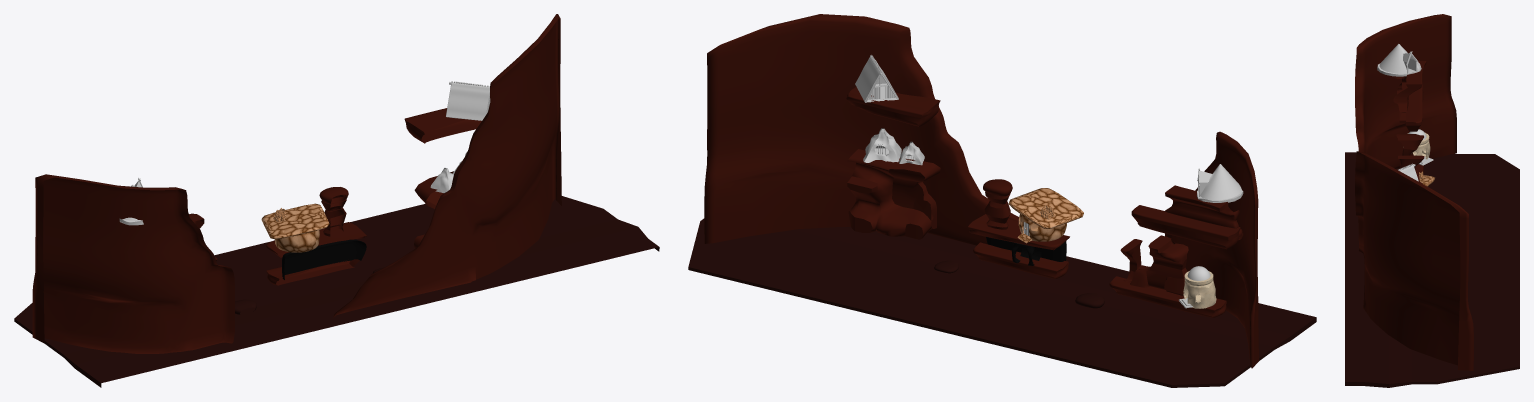
The model's file is Stage.FBX.
3 views of the same model, side by side, from view 1: azimuth 30°, elevation 25°; view 2: azimuth 150°, elevation 25°; view 3: azimuth 270°, elevation 25° (orthographic). The views are drawn at different scales.
Parts seen in each view (by area): view 1: Stage_Right, Stage_Left, Ground, Tunnel, Picapiedra's House, Left_Up, Straw House, Central, Left_Down; view 2: Ground, Stage_Left, Stage_Right, Left_Down, Right_Down, Right_Up, Tunnel, Picapiedra's House, Left_Up, Volcano House, Conic House, Sand House (+2 smaller); view 3: Ground, Stage_Left, Stage_Right, Right_Up, Conic House, Right_Down, Sand House, Straw House.
Boxes of the visible parts, x1,y1,x2,y2 form: Stage_Right: [32, 174, 234, 353]; Stage_Left: [333, 14, 561, 317]; Ground: [14, 196, 659, 387]; Tunnel: [266, 222, 366, 285]; Picapiedra's House: [261, 203, 329, 252]; Left_Up: [404, 108, 481, 143]; Straw House: [446, 81, 490, 120]; Central: [319, 187, 348, 236]; Left_Down: [414, 171, 453, 248]; Ground: [688, 218, 1316, 387]; Stage_Left: [704, 14, 1018, 245]; Stage_Right: [1165, 131, 1258, 368]; Left_Down: [847, 149, 940, 239]; Right_Down: [1109, 235, 1226, 317]; Right_Up: [1131, 185, 1243, 249]; Tunnel: [968, 214, 1069, 278]; Picapiedra's House: [1008, 188, 1083, 243]; Left_Up: [846, 87, 940, 126]; Volcano House: [863, 128, 924, 165]; Conic House: [1197, 164, 1243, 202]; Sand House: [1179, 266, 1216, 308]; Ground: [1345, 152, 1519, 387]; Stage_Left: [1355, 151, 1473, 370]; Stage_Right: [1355, 14, 1456, 168]; Right_Up: [1393, 61, 1426, 131]; Conic House: [1377, 44, 1421, 76]; Right_Down: [1396, 134, 1424, 172]; Sand House: [1403, 129, 1433, 165]; Straw House: [1398, 163, 1418, 181].
Size of the model in its own units: 6651 by 2382 by 2111.
